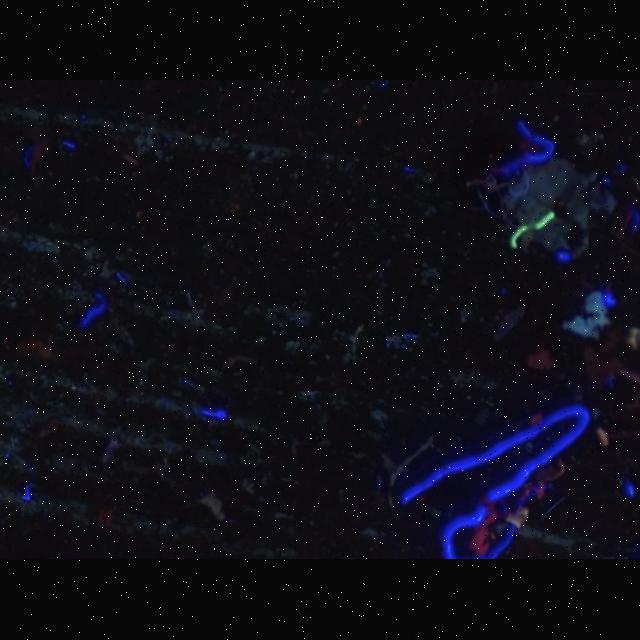Fibre: (200, 494, 228, 528)
